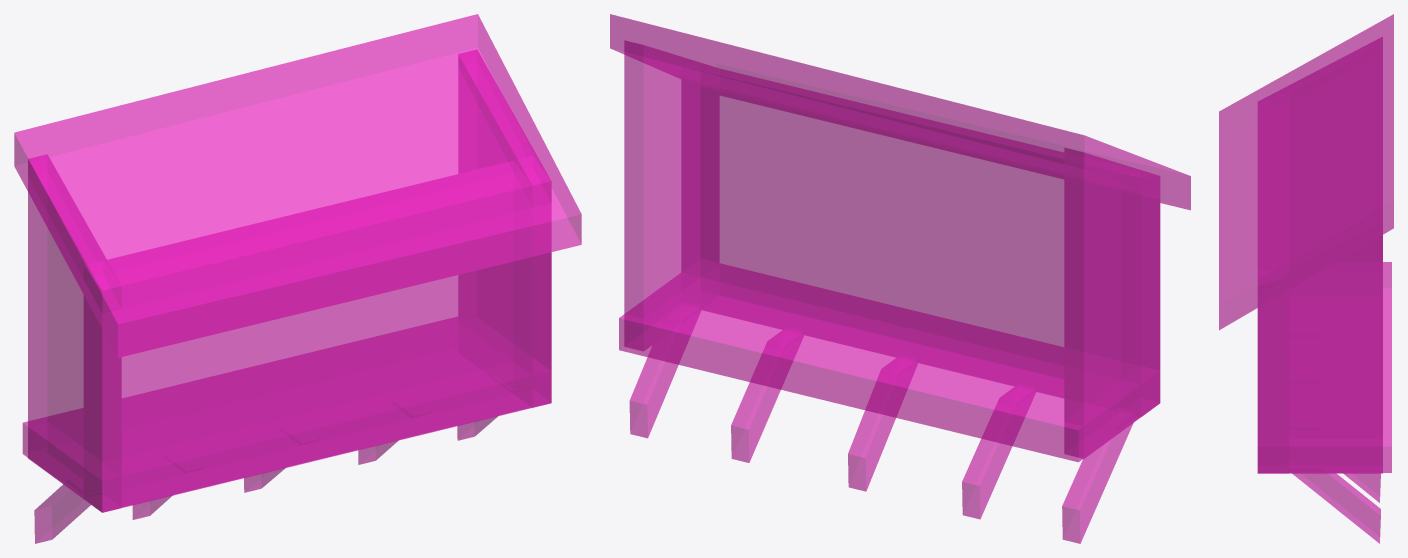
File: SM_Bld_Balcony_05_Collision.fbx
3 renders of one model, left to right at view 1: azimuth 30°, elevation 25°; view 2: azimuth 150°, elevation 25°; view 3: azimuth 270°, elevation 25°, orthographic. The views are drawn at different scales.
Visible parts, largest first — view 1: SM_Bld_Balcony_05_Collision; view 2: SM_Bld_Balcony_05_Collision; view 3: SM_Bld_Balcony_05_Collision.
Part boxes in pixels (bbox=[...]): SM_Bld_Balcony_05_Collision: bbox=[14, 14, 581, 543]; SM_Bld_Balcony_05_Collision: bbox=[610, 14, 1190, 543]; SM_Bld_Balcony_05_Collision: bbox=[1219, 14, 1393, 543].
Size of the model in its own units: 512 by 437 by 199.
